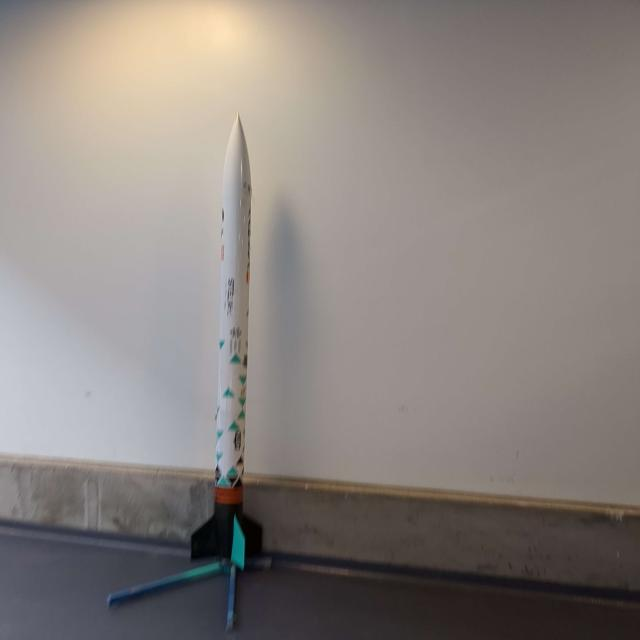Rocket: (191, 111, 262, 571)
